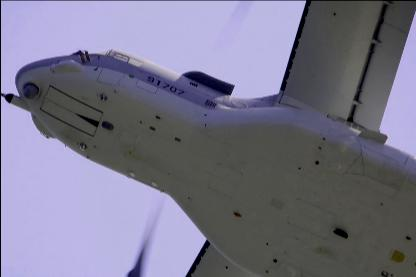Tornado: (1, 1, 416, 276)
